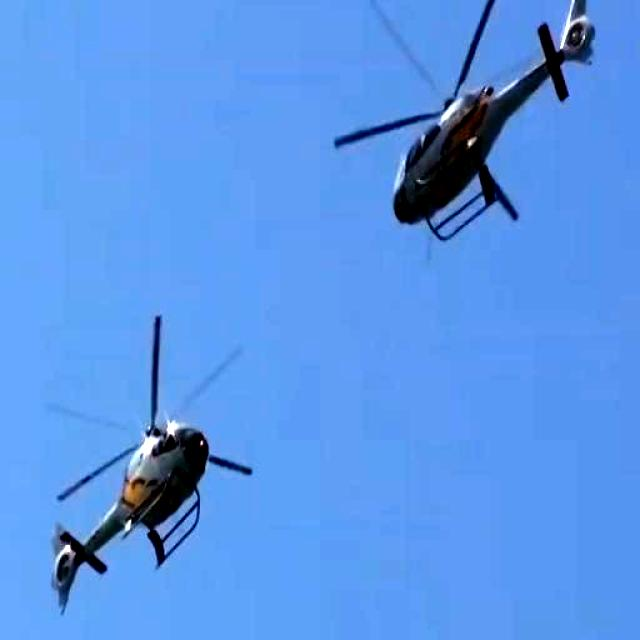drone: (338, 0, 599, 256), (51, 318, 255, 626)
